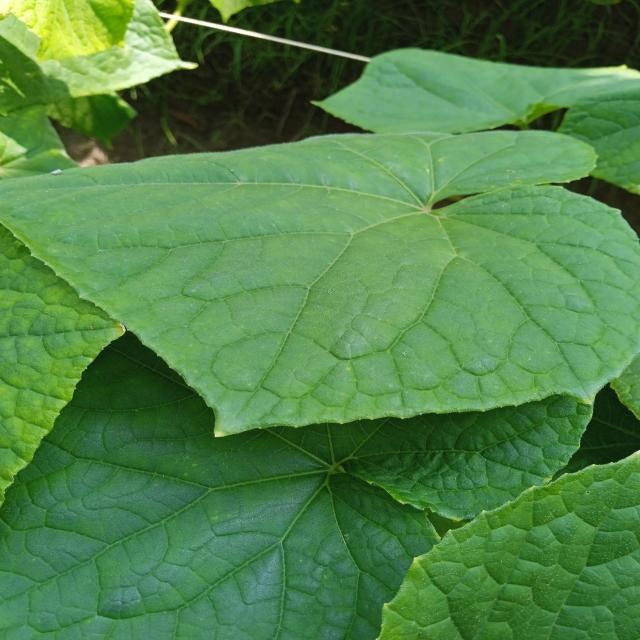cucumber_healthy: (0, 121, 640, 447), (1, 330, 602, 640), (372, 439, 640, 640), (307, 37, 640, 190), (0, 0, 213, 93)
